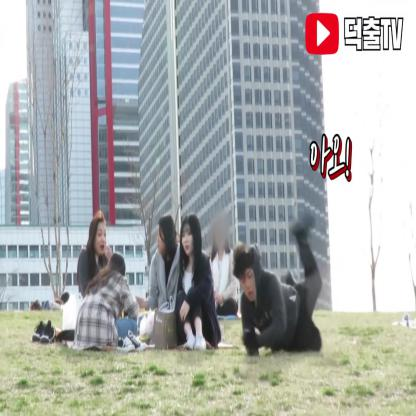Fall_Down: (230, 216, 325, 357)
